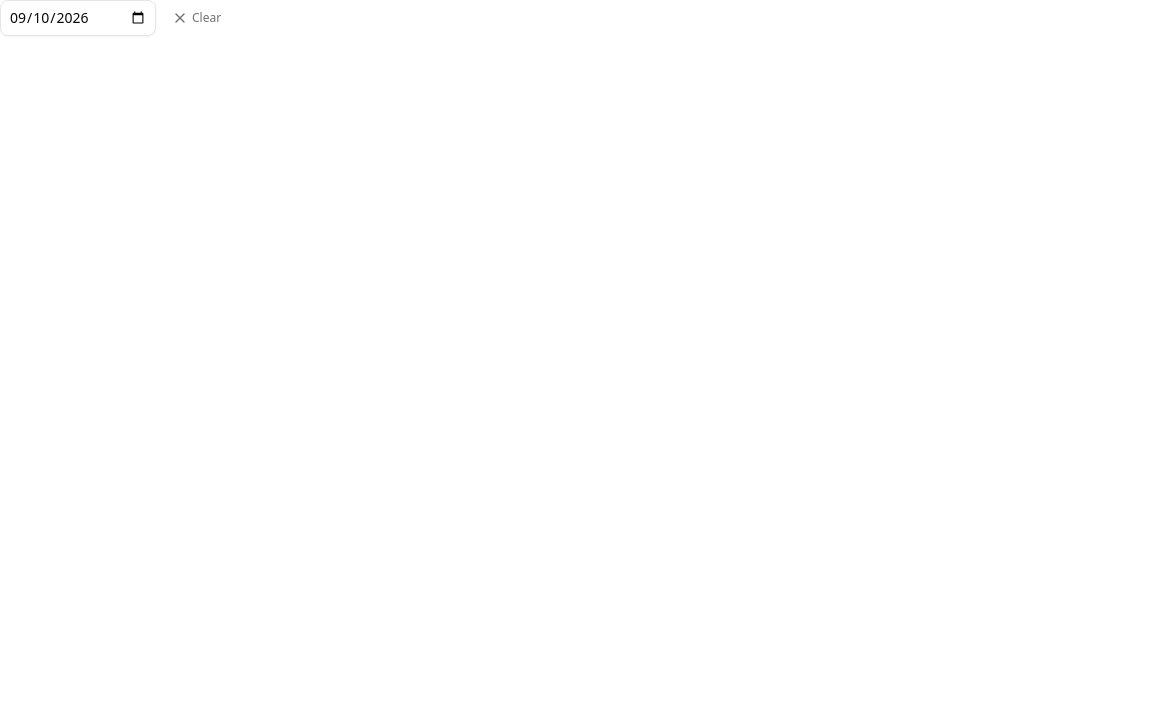
Scenario: promise date editors › reviews a Shopify promise clear before writing
The image size is (1152, 720).
Later steps or results of the test are not shown.
Click the button with aria-label "Clear Customer promise date in Shopify".
click(197, 18)  # box top-left (162, 0), bottom-right (231, 36)
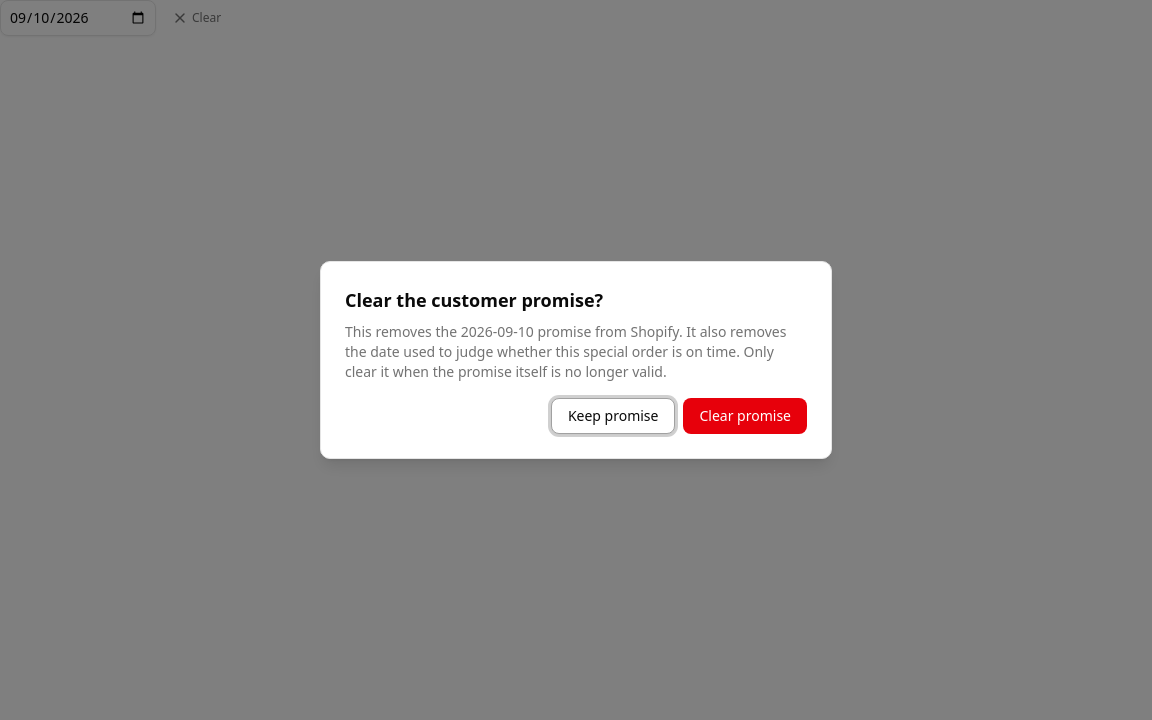
Expected: the dialog "Clear the customer promise?" is shown, top-left (320, 261), bottom-right (832, 459)
